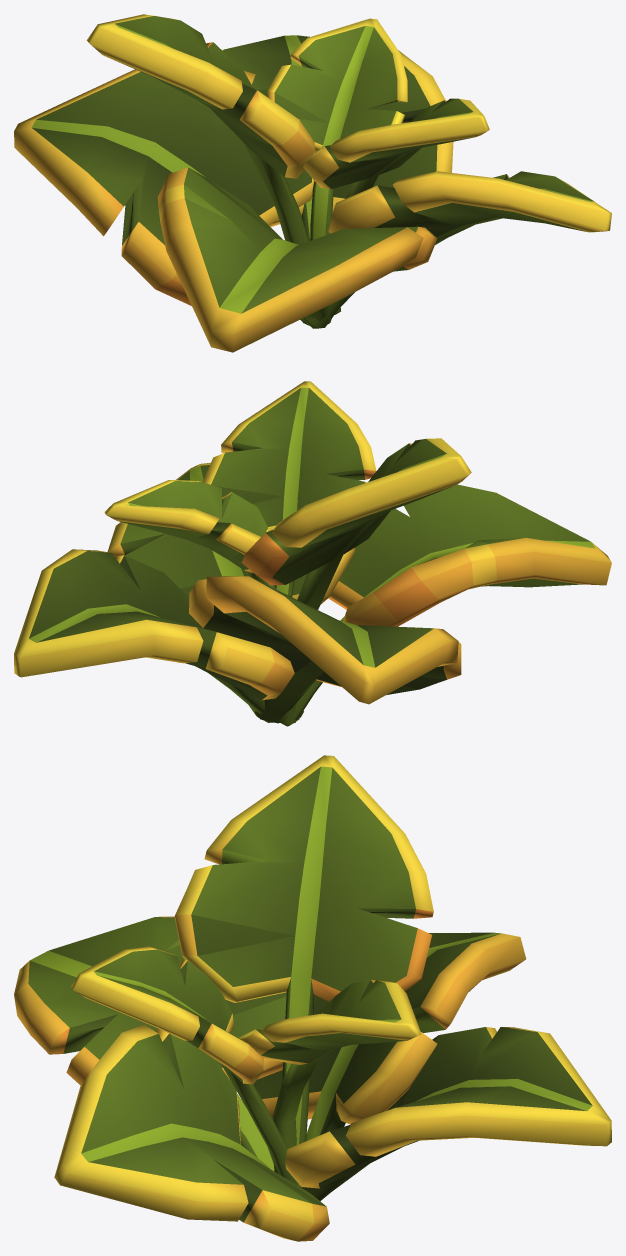
Rendered from philodendron_orange_large_LOD_group.fbx.
3 renders of one model, top to bottom at view 1: azimuth 30°, elevation 25°; view 2: azimuth 150°, elevation 25°; view 3: azimuth 270°, elevation 25°, orthographic. The views are drawn at different scales.
Parts seen in each view (by area): view 1: philodendron_orange_large_LOD0; view 2: philodendron_orange_large_LOD0; view 3: philodendron_orange_large_LOD0.
Part boxes in pixels (x1,y1,x2,y2): philodendron_orange_large_LOD0: (14,14,611,352); philodendron_orange_large_LOD0: (14,381,611,726); philodendron_orange_large_LOD0: (14,755,611,1241).
Size of what is drawn, in the model's own units: 297 by 220 by 330.
Materials: 1 (1 with a texture image).
